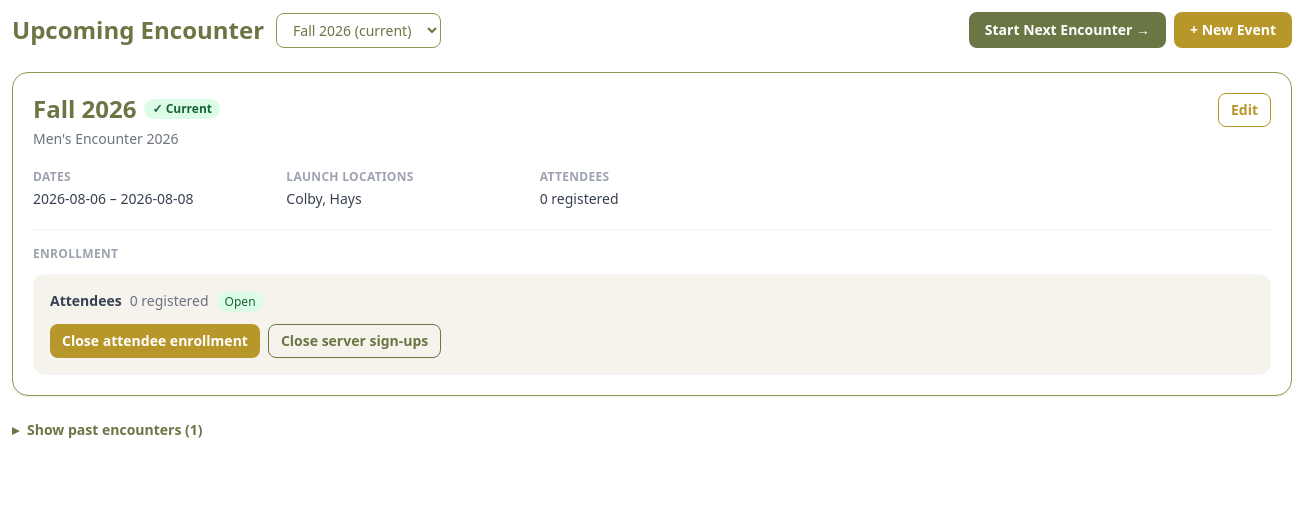
Test case: Events page › hides past encounters behind a button and lists only the non-current ones
Expected: the heading "Fall 2026" is shown, [33, 93, 136, 125]
Click the button with test id "toggle-past-encounters".
click(107, 430)  # box [12, 420, 202, 440]
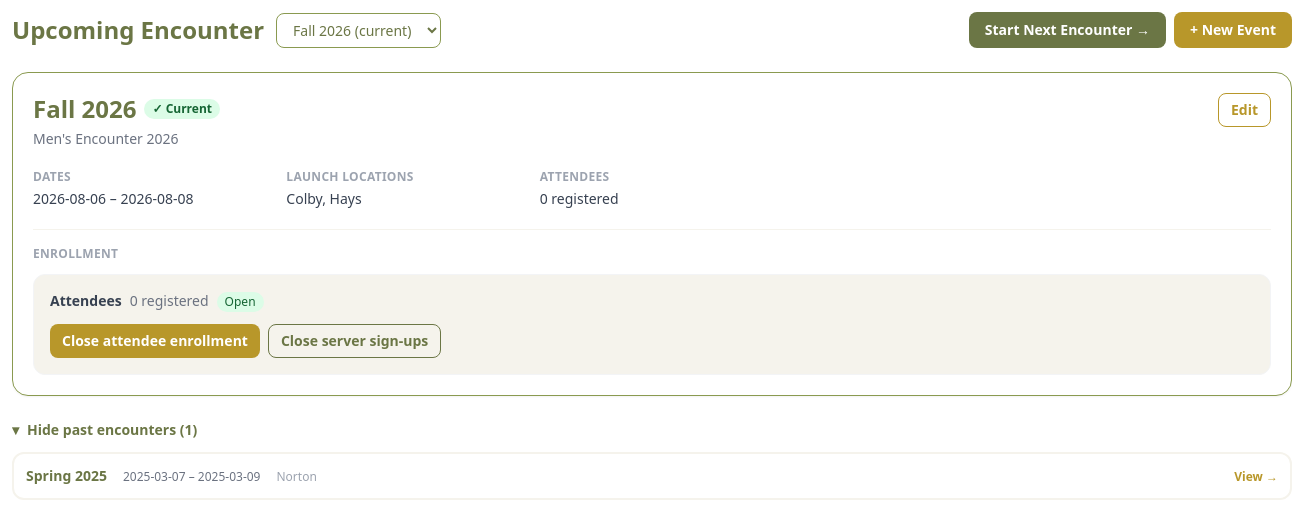
Now the button with aria-label "view Spring 2025" is shown, box [12, 452, 1292, 500]
